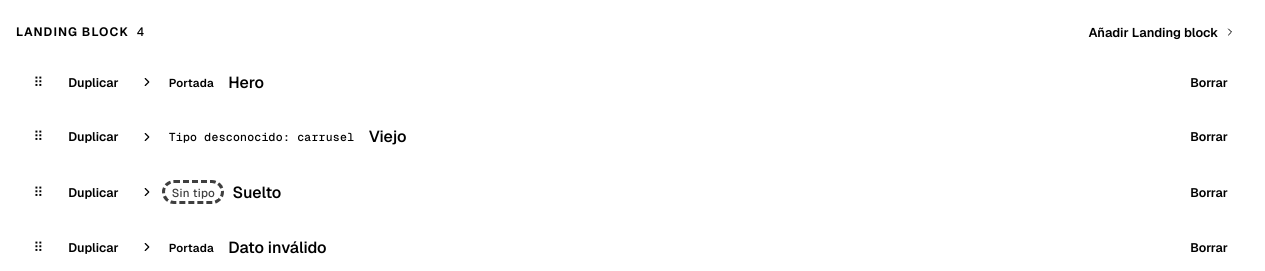
Test case: RecordBlocks.svelte — tipos de bloque › Tab y Shift+Tab sacan el foco del menú y lo cierran
The image size is (1265, 271).
Click the button "Añadir Landing block" at (1162, 32), box [1076,16,1248,48]
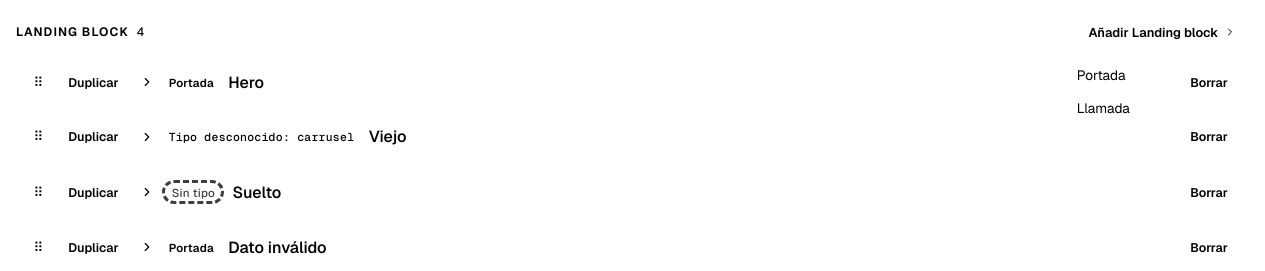
Leave the menu item "Portada", box [1067,59,1243,92]
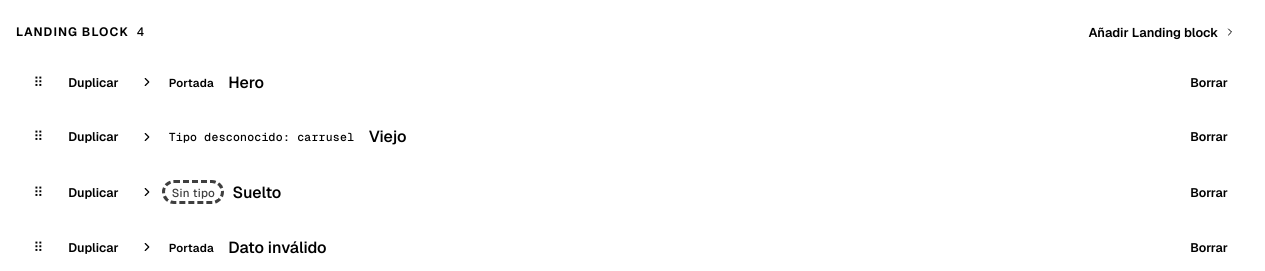
Now the menu is gone
